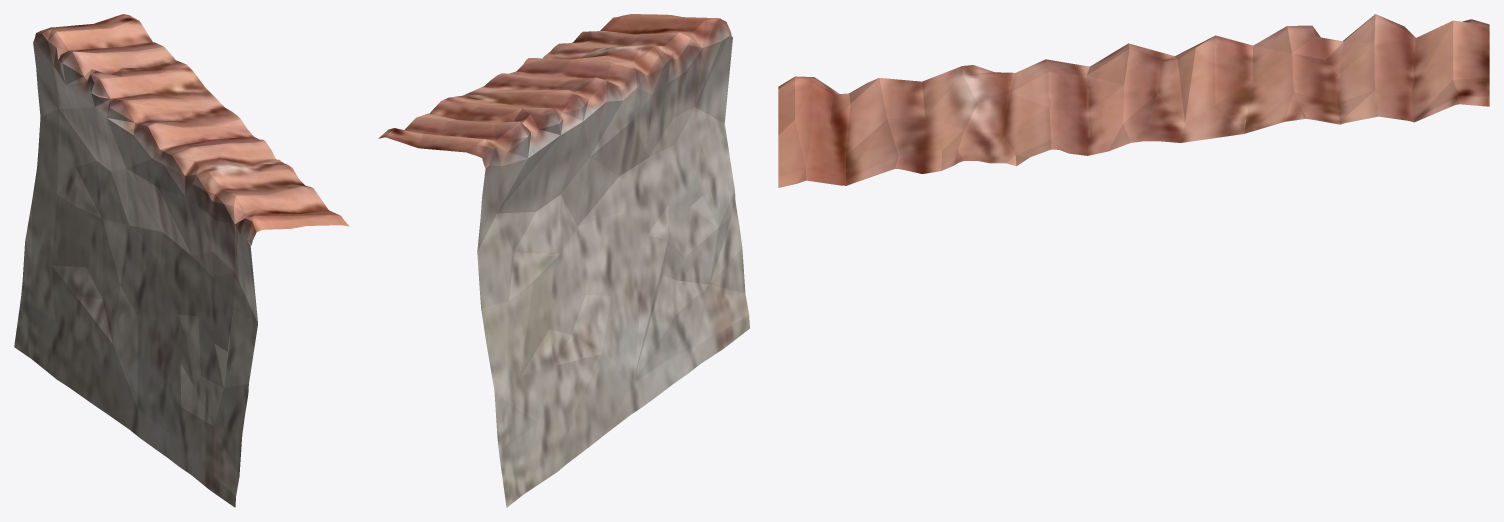
The picture shows the model from 3 angles, left to right: view 1: azimuth 30°, elevation 25°; view 2: azimuth 150°, elevation 25°; view 3: azimuth 270°, elevation 25°; orthographic projection. The views are drawn at different scales.
Bounding box in the file's own units: 0.5131 × 1.33 × 1.67.
Materials: 2 (2 with a texture image).
